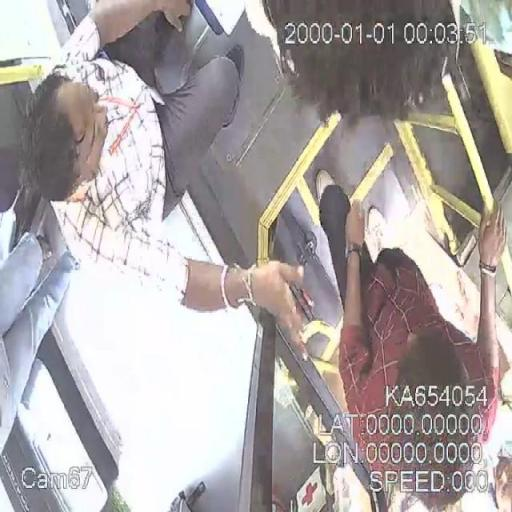persona: (20, 0, 309, 352), (314, 165, 509, 510)
